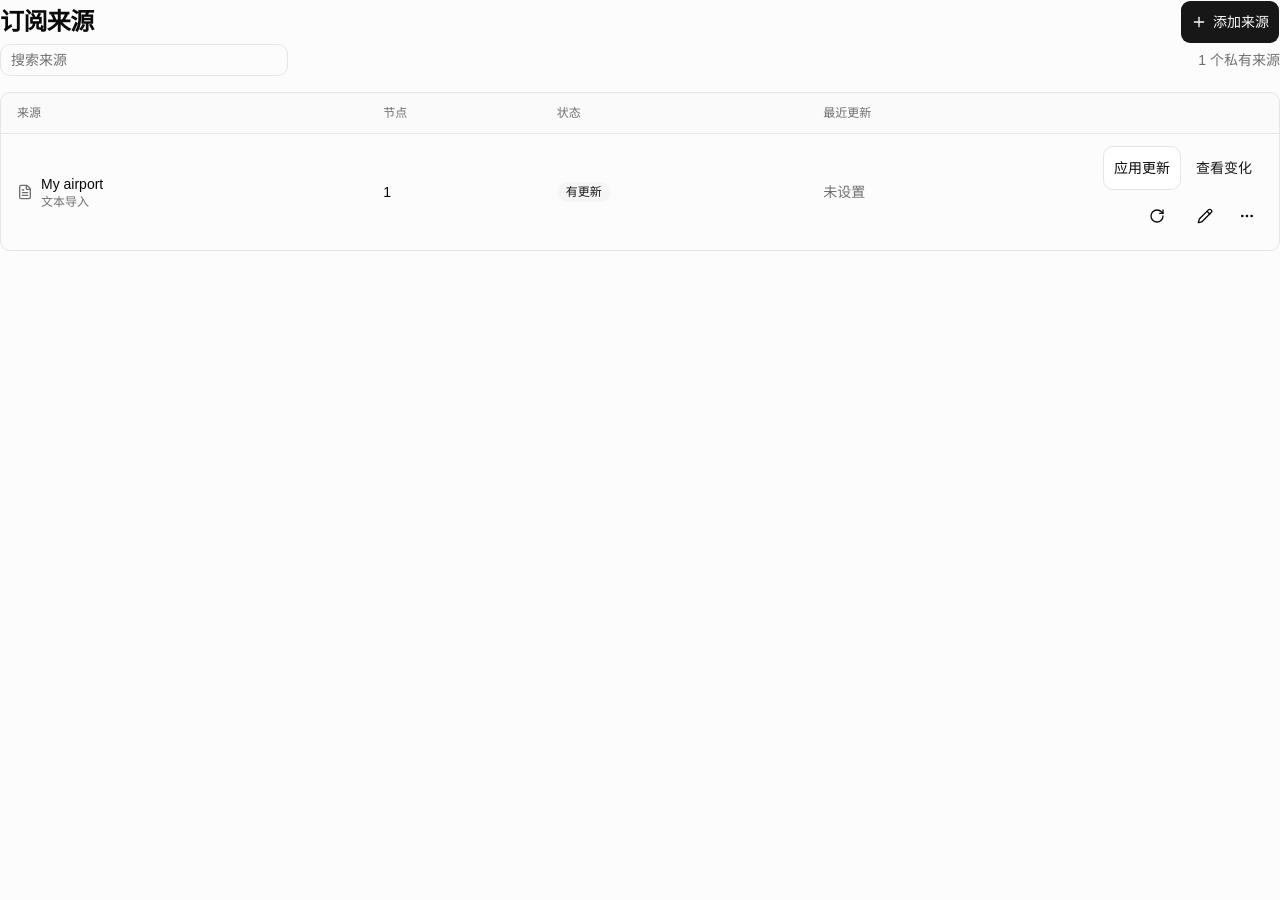
Scenario: rejects the candidate without creating an acceptance continuation
This screenshot has width=1280, height=900.
Step 1. Click the button "查看变化" → (1224, 168), box [1185, 146, 1263, 190]
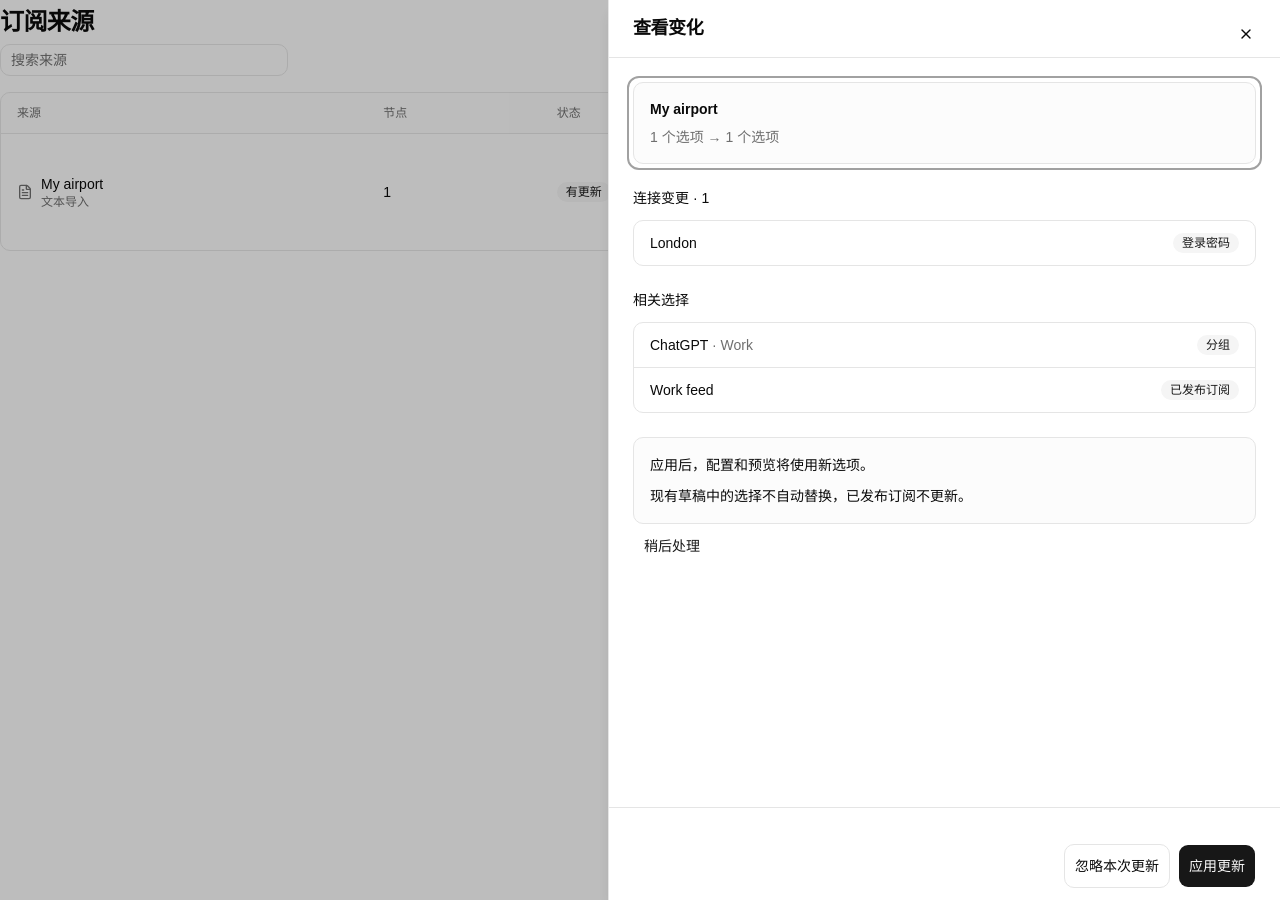
Step 2. Click the button "忽略本次更新" → (1117, 866), box [1064, 844, 1170, 888]
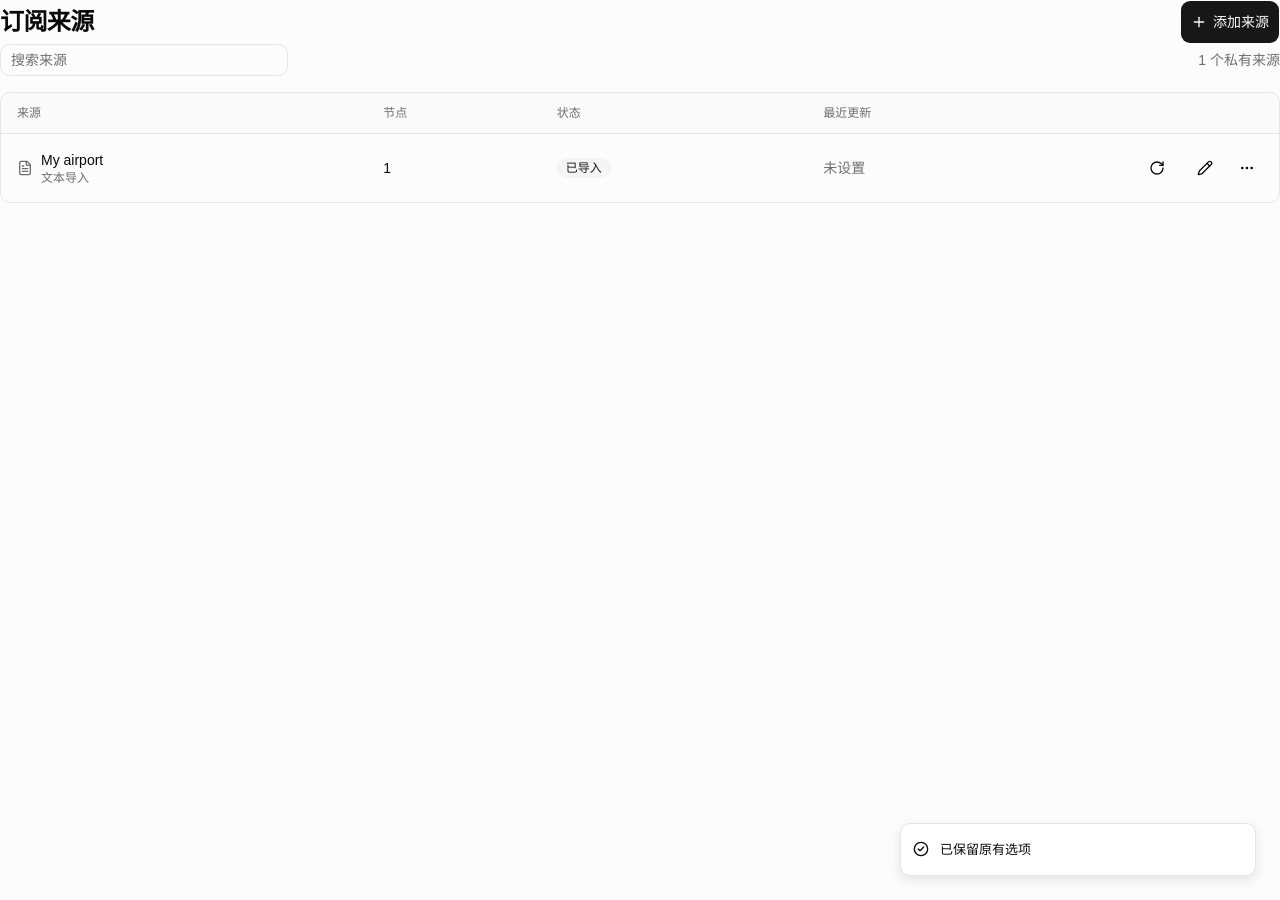
Expected: the dialog is gone
